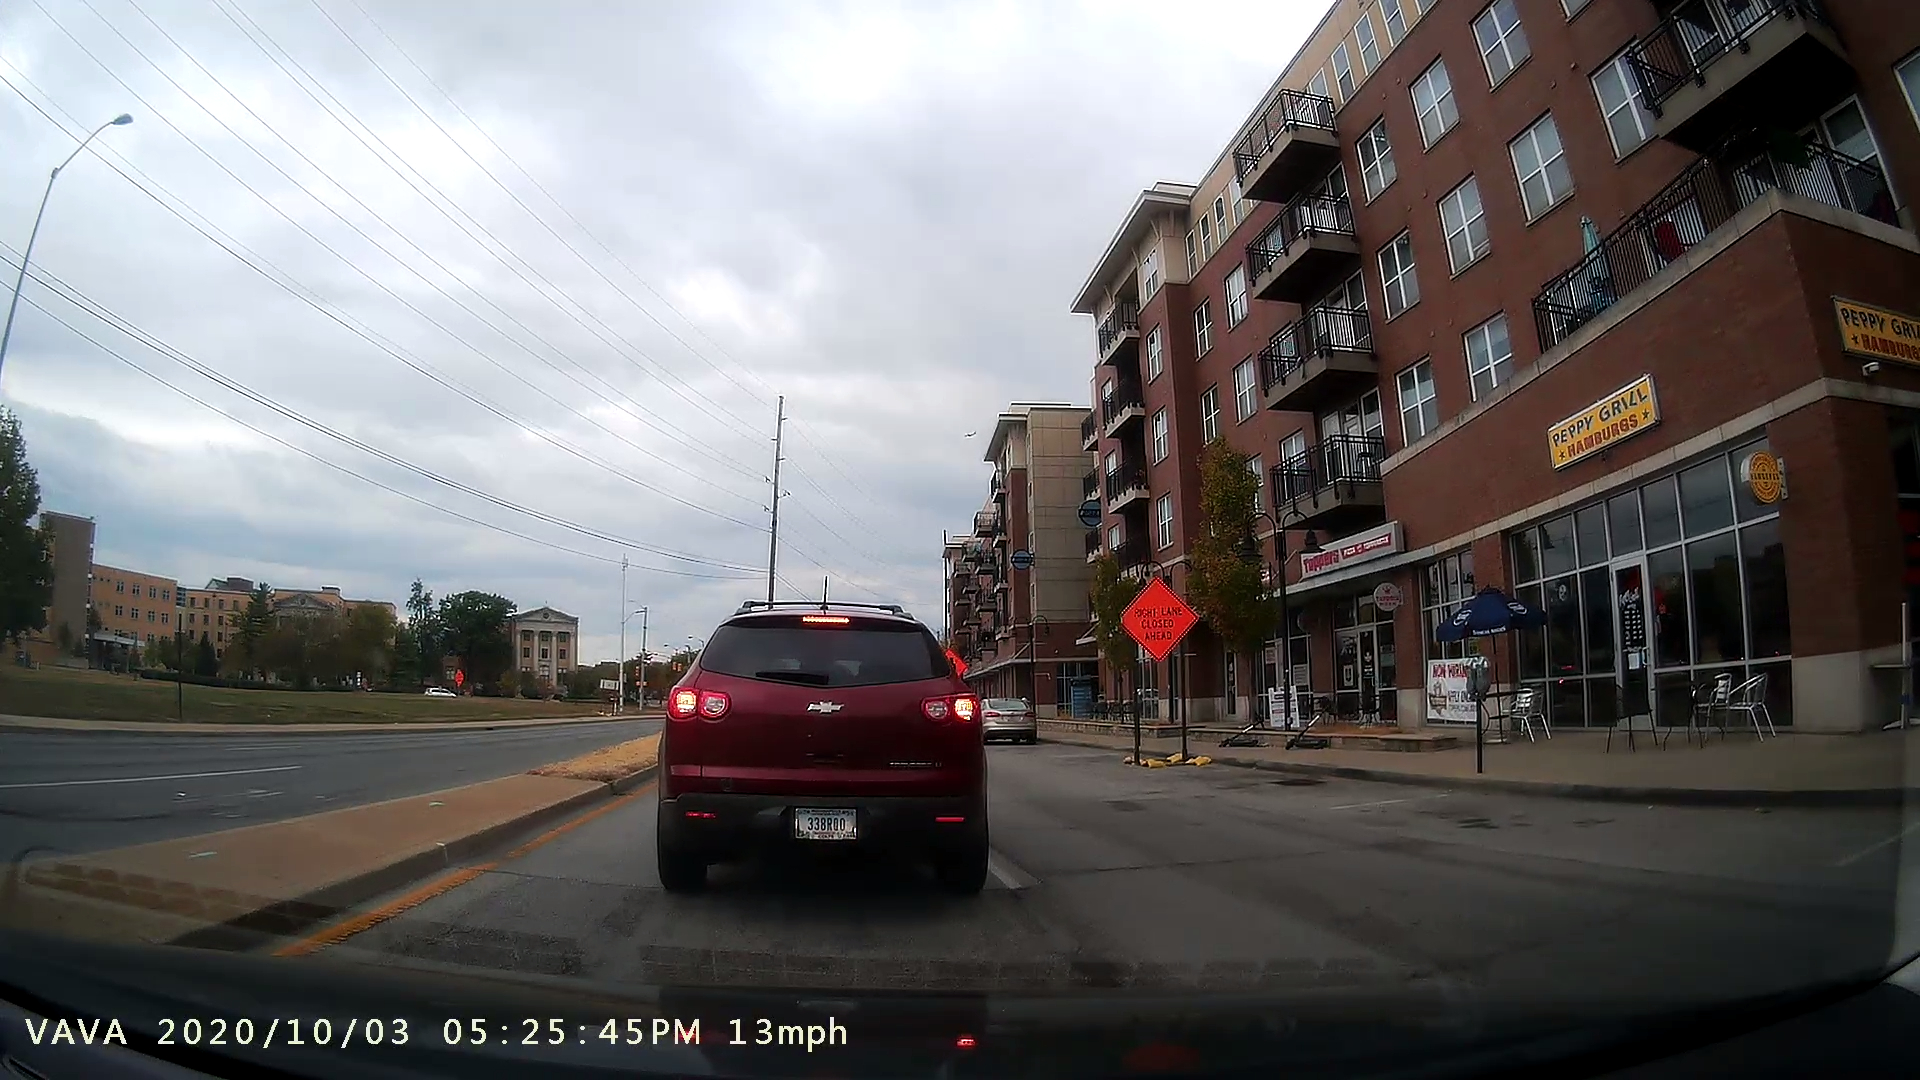ttcs_right_lane_closed_ahead: (1104, 562, 1213, 774)
